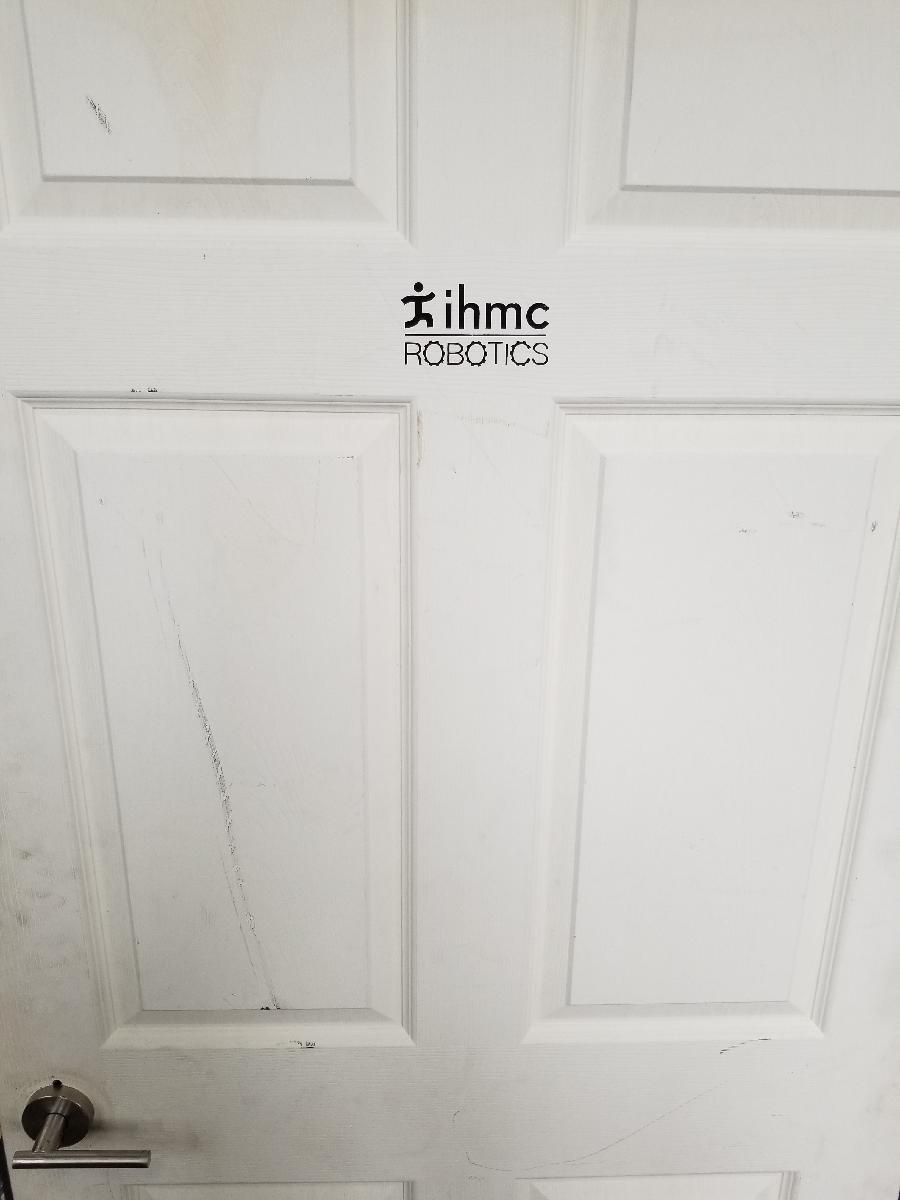doorHandle: (1, 1083, 158, 1178)
